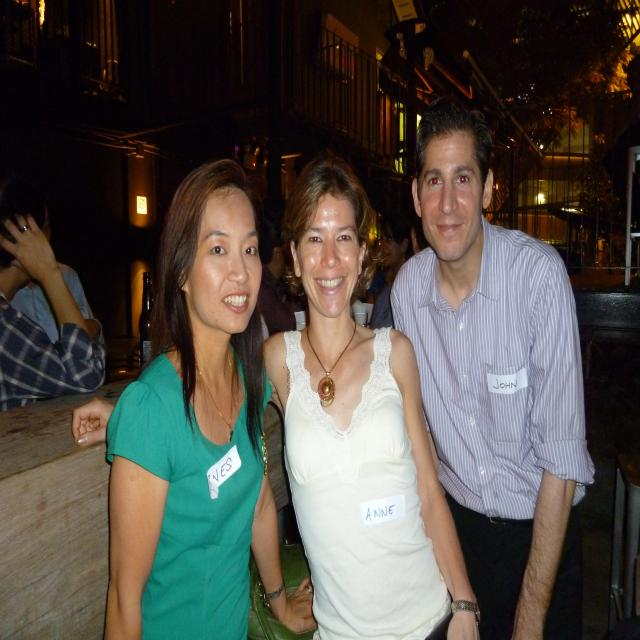body: (68, 157, 488, 640), (388, 98, 598, 640), (99, 148, 328, 640), (0, 162, 107, 414), (0, 185, 100, 347), (359, 196, 420, 324), (259, 233, 303, 328)
